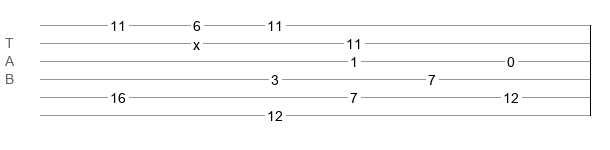0: (507, 54, 515, 64)
1: (350, 54, 358, 64)
11: (110, 18, 126, 28), (267, 18, 283, 28), (346, 36, 362, 46)
12: (267, 108, 283, 118), (503, 90, 519, 100)
16: (110, 90, 126, 100)
3: (271, 72, 279, 82)
6: (193, 18, 201, 28)
7: (350, 90, 358, 100), (428, 72, 436, 82)
x: (193, 37, 200, 45)
